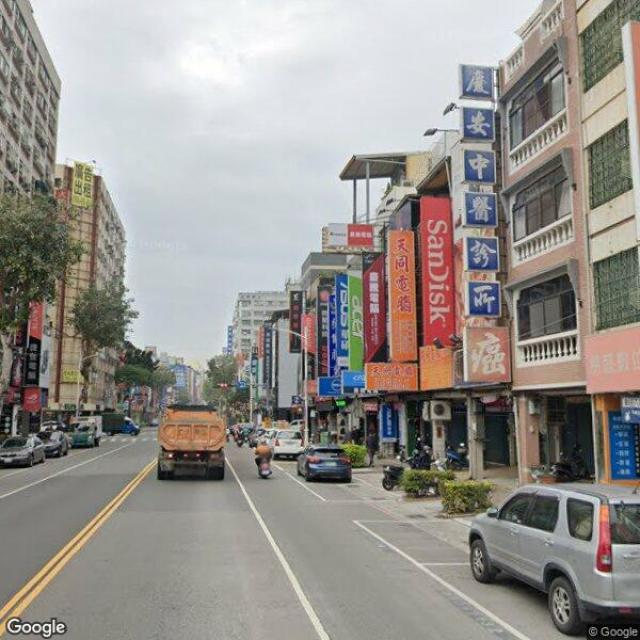Legalparking: (450, 472, 640, 640), (5, 402, 99, 467), (300, 444, 360, 496), (269, 426, 301, 456)
